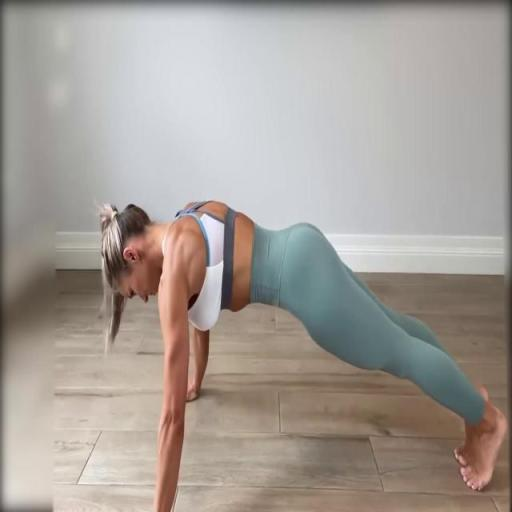Normal_BrenchPress: (97, 200, 510, 509)
